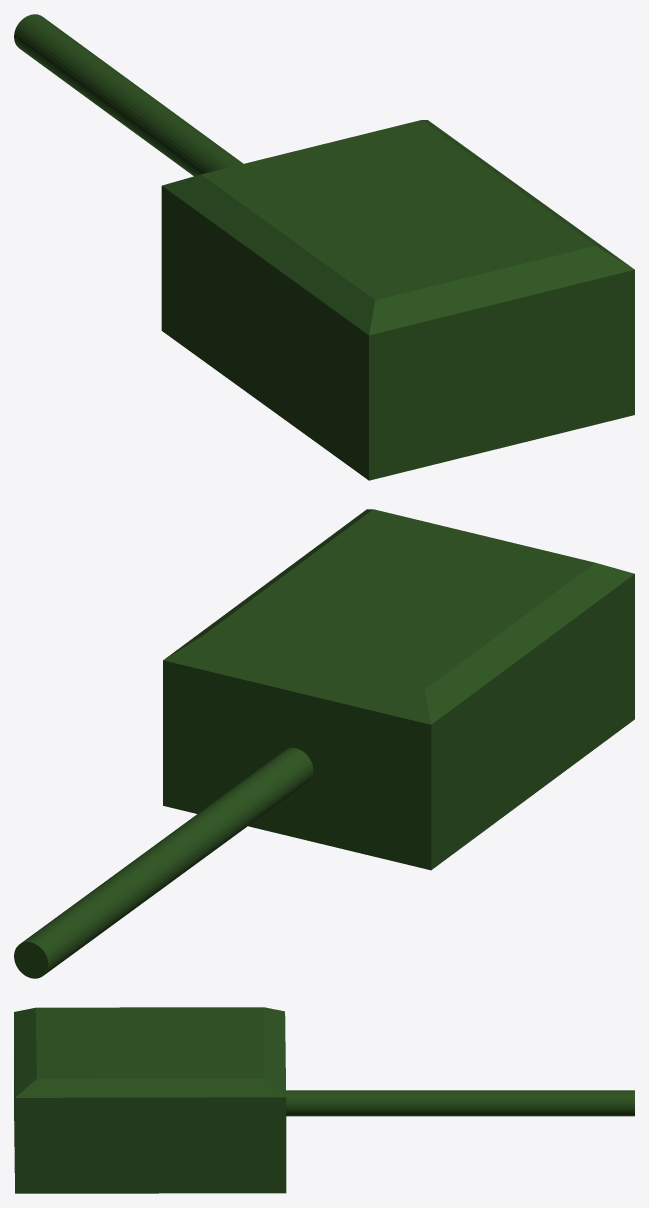
The model's file is test_tank_cannon.glb.
3 renders of one model, top to bottom at view 1: azimuth 30°, elevation 25°; view 2: azimuth 150°, elevation 25°; view 3: azimuth 270°, elevation 25°, orthographic. The views are drawn at different scales.
Visible parts, largest first — view 1: Cube.001, Cylinder.002; view 2: Cube.001, Cylinder.002; view 3: Cube.001, Cylinder.002.
Part boxes in pixels (x1,y1,x2,y2): Cube.001: (161,120,634,480); Cylinder.002: (14,14,243,176); Cube.001: (163,509,634,870); Cylinder.002: (14,748,313,978); Cube.001: (14,1007,286,1193); Cylinder.002: (286,1090,634,1116).
Bounding box in the file's own units: 6.04 × 3.5 × 18.32.
